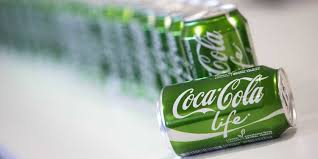can: (157, 61, 300, 159)
